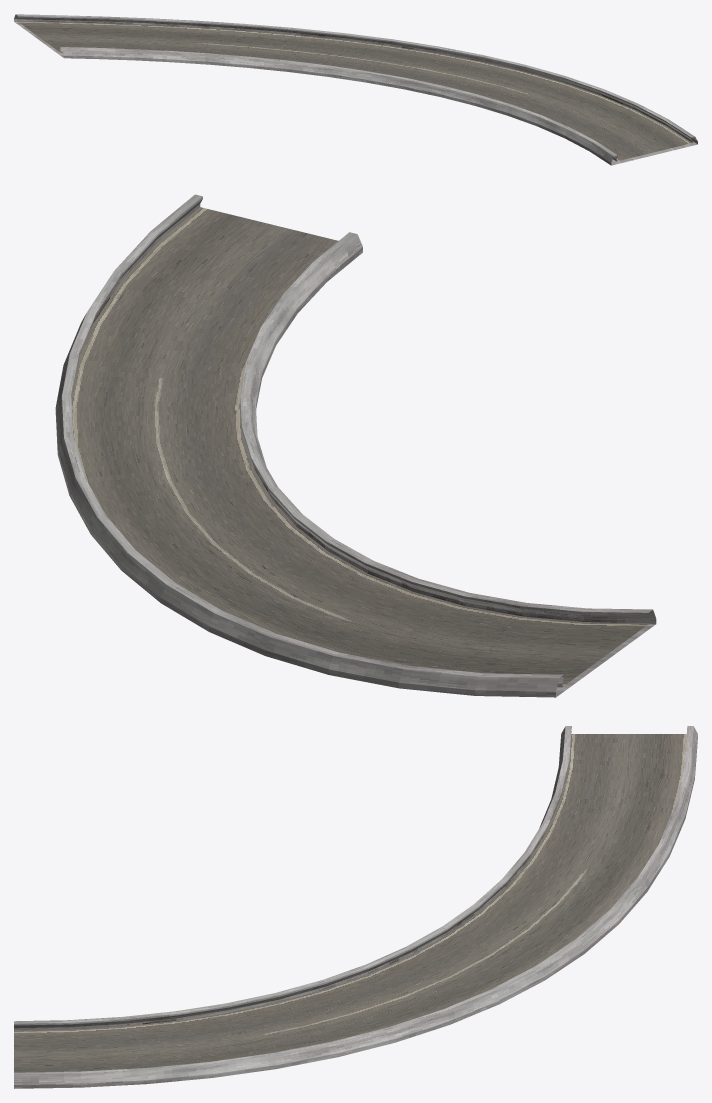
Rendered from turn-left5x5.glb.
The picture shows the model from 3 angles, top to bottom: view 1: azimuth 30°, elevation 25°; view 2: azimuth 150°, elevation 25°; view 3: azimuth 270°, elevation 25°; orthographic projection. The views are drawn at different scales.
Visible parts, largest first — view 1: road-Turn-Flat-BiSlopeUp-Up2-Left-Size5; view 2: road-Turn-Flat-BiSlopeUp-Up2-Left-Size5; view 3: road-Turn-Flat-BiSlopeUp-Up2-Left-Size5.
Part boxes in pixels (bbox=[...]): road-Turn-Flat-BiSlopeUp-Up2-Left-Size5: bbox=[14, 14, 697, 165]; road-Turn-Flat-BiSlopeUp-Up2-Left-Size5: bbox=[55, 194, 656, 697]; road-Turn-Flat-BiSlopeUp-Up2-Left-Size5: bbox=[14, 726, 697, 1088].
Bounding box in the file's own units: 5 × 0.6175 × 5.
Materials: 2 (2 with a texture image).
